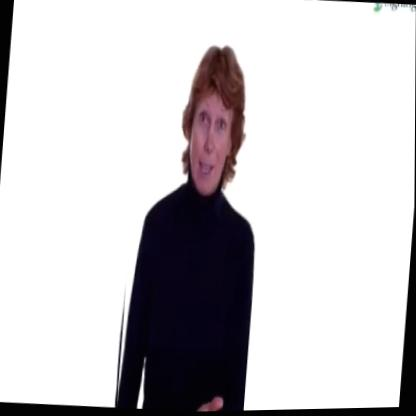ThankYou: (118, 38, 272, 414)
